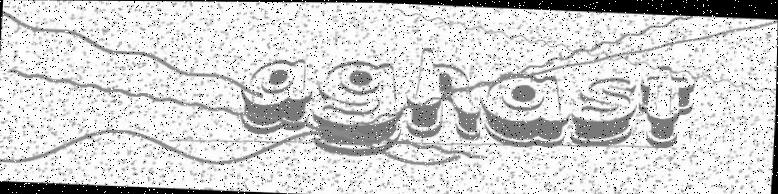a: (478, 69, 574, 150), (238, 55, 317, 136)
g: (310, 57, 407, 158)
h: (405, 44, 486, 141)
s: (572, 73, 640, 147)
t: (636, 62, 698, 150)
